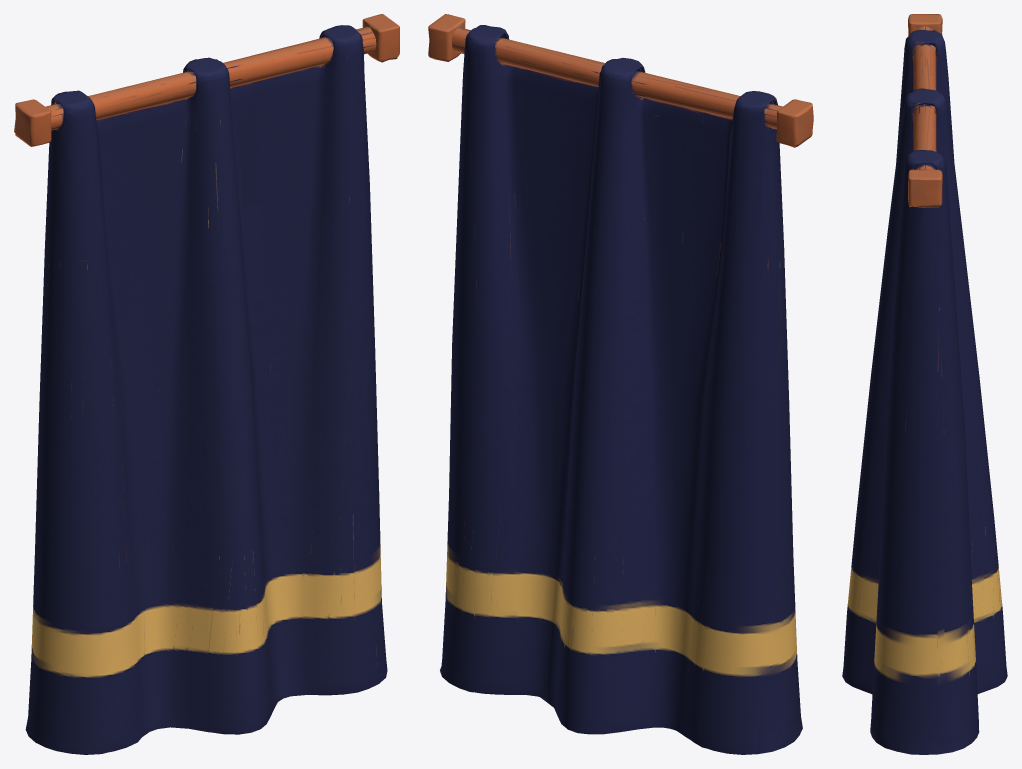
The model's file is signage_banner.glb.
The picture shows the model from 3 angles, left to right: view 1: azimuth 30°, elevation 25°; view 2: azimuth 150°, elevation 25°; view 3: azimuth 270°, elevation 25°; orthographic projection. The views are drawn at different scales.
Size of the model in its own units: 0.6113 by 1 by 0.2578.
Materials: 1 (1 with a texture image).
